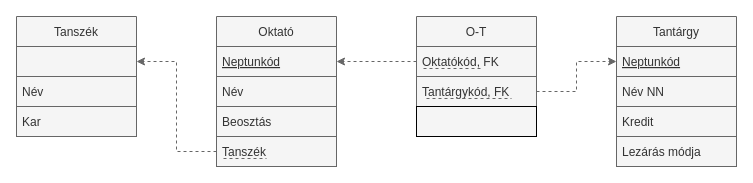
Image size: 753x183. Some labels were removed from this diagram. The shapes that lost their labels are listed below. From the top down, each one's centre as x and y in pixels, then its label:
(76,61): Kód
(476,121): Félév
